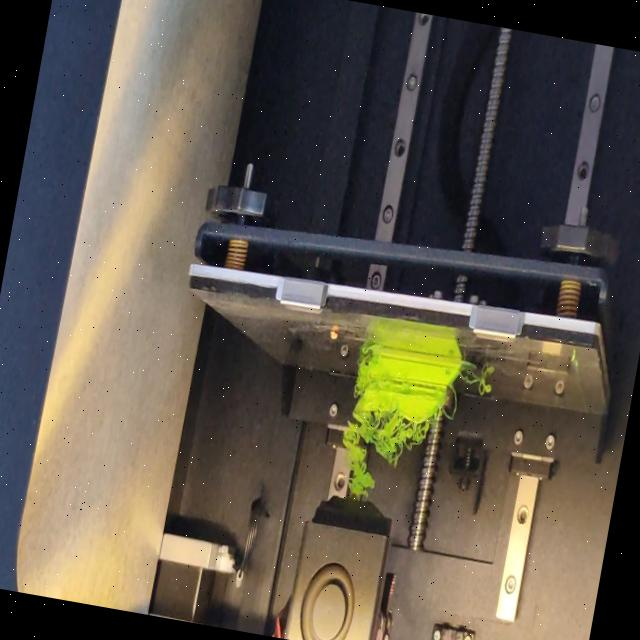spaghetti: (332, 406, 438, 514), (455, 367, 498, 398), (441, 382, 462, 427), (361, 339, 372, 358)
